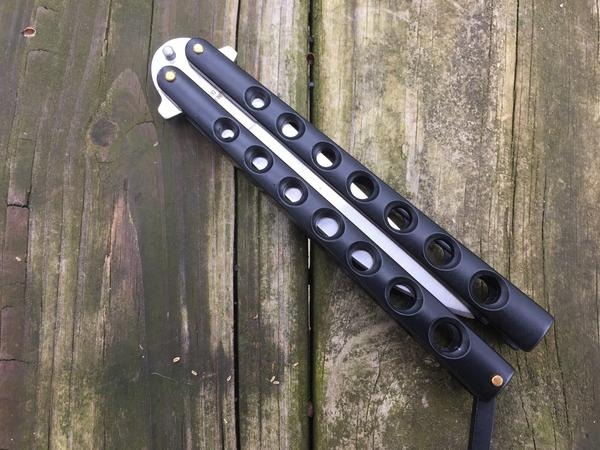knife: (147, 27, 556, 401)
